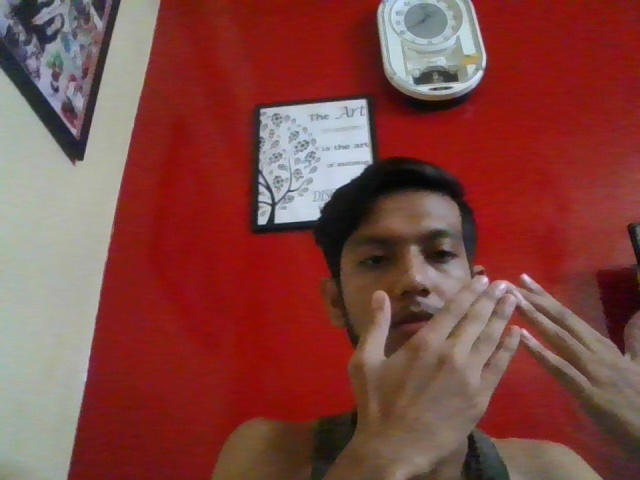ThankYou: (351, 272, 640, 480)
